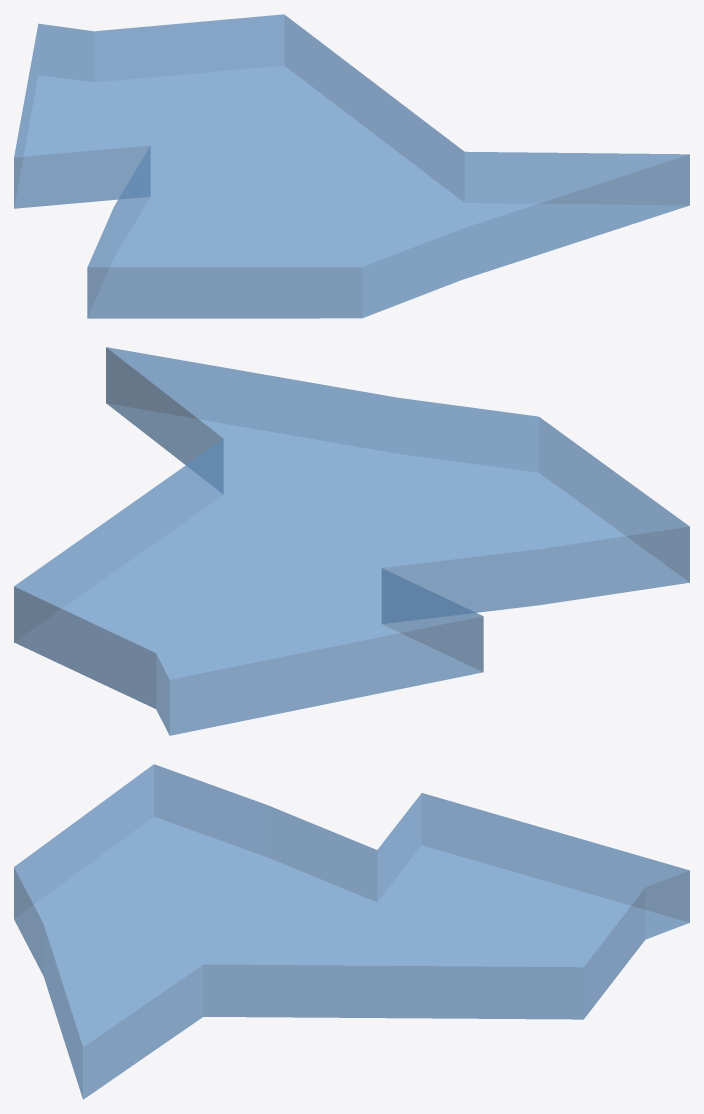
The model's file is IceBridgeP04.FBX.
The picture shows the model from 3 angles, top to bottom: view 1: azimuth 30°, elevation 25°; view 2: azimuth 150°, elevation 25°; view 3: azimuth 270°, elevation 25°; orthographic projection. The views are drawn at different scales.
Parts seen in each view (by area): view 1: IceBridgeP004; view 2: IceBridgeP004; view 3: IceBridgeP004.
Part boxes in pixels (box(x1,y1,x2,y2)): IceBridgeP004: box(14, 14, 689, 318); IceBridgeP004: box(14, 347, 689, 735); IceBridgeP004: box(14, 764, 689, 1099).
Size of the model in its own units: 92.85 by 8 by 93.6.
